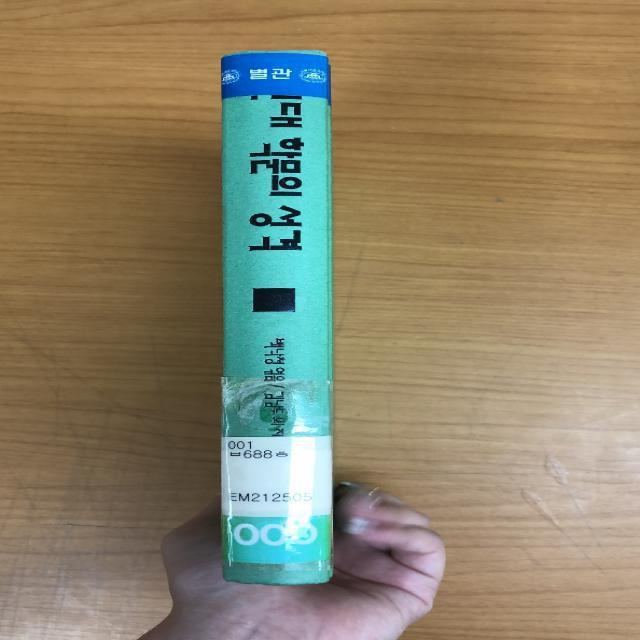Wornout: (217, 572, 295, 591)
